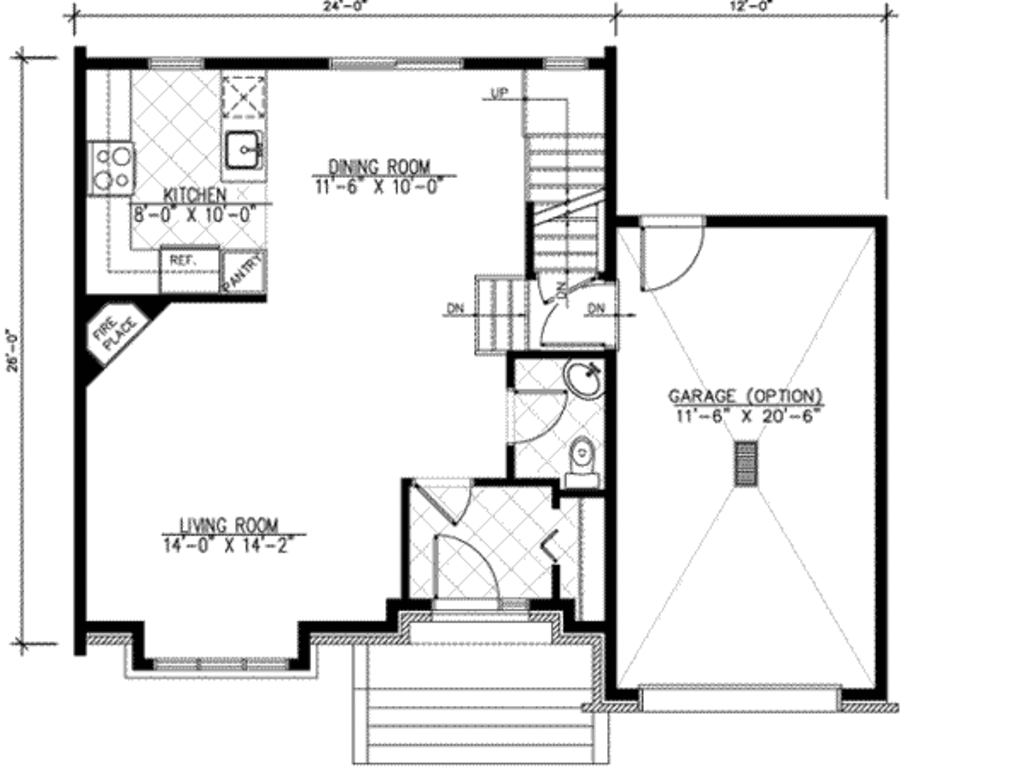door: (639, 211, 708, 299), (431, 534, 505, 613), (500, 388, 567, 453), (409, 477, 472, 527)
large_sink: (560, 436, 602, 491)
sink: (220, 123, 268, 172)
small_sink: (558, 358, 607, 408)
stairs: (474, 130, 620, 358)
window: (328, 50, 464, 77), (148, 652, 289, 672), (535, 54, 589, 76), (148, 52, 204, 71)
